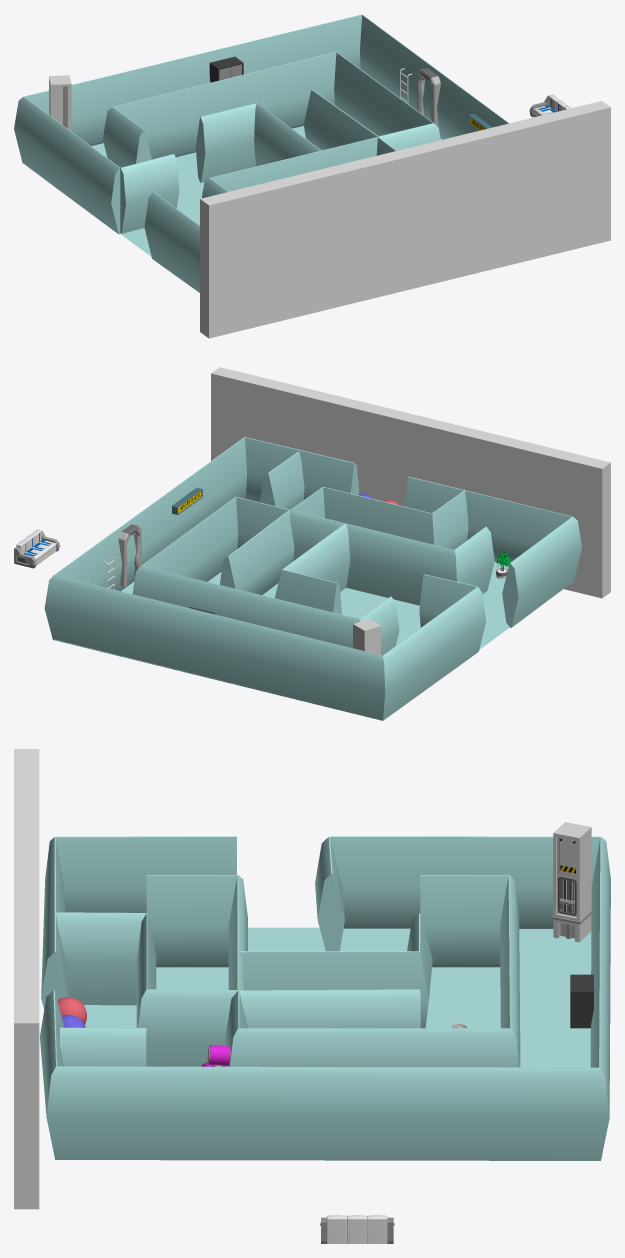
File: maze1.glb
3 renders of one model, top to bottom at view 1: azimuth 30°, elevation 25°; view 2: azimuth 150°, elevation 25°; view 3: azimuth 270°, elevation 25°, orthographic. The views are drawn at different scales.
Visible parts, largest first — view 1: Maze, blocker, computer_015.001, door_011.001, ambry_003_001.001, seat_006.001; view 2: Maze, blocker, seat_006.001, computer_015.001, door_011.001; view 3: Maze, blocker, computer_015.001, seat_006.001, ambry_003_001.001.
Boxes of the visible parts, x1,y1,x2,y2 form: Maze: (14,14,508,292); blocker: (200,101,610,338); computer_015.001: (49,75,71,131); door_011.001: (417,68,440,127); ambry_003_001.001: (209,56,243,82); seat_006.001: (529,94,571,117); Maze: (44,437,581,720); blocker: (211,367,610,598); seat_006.001: (14,529,60,568); computer_015.001: (353,619,380,654); door_011.001: (118,524,141,586); Maze: (40,836,610,1160); blocker: (14,749,39,1209); computer_015.001: (551,822,591,942); seat_006.001: (320,1214,394,1243); ambry_003_001.001: (570,974,593,1028).
Size of what is drawn, in the model's own units: 20.39 by 5.43 by 15.79.
Materials: 18 (11 with a texture image).
